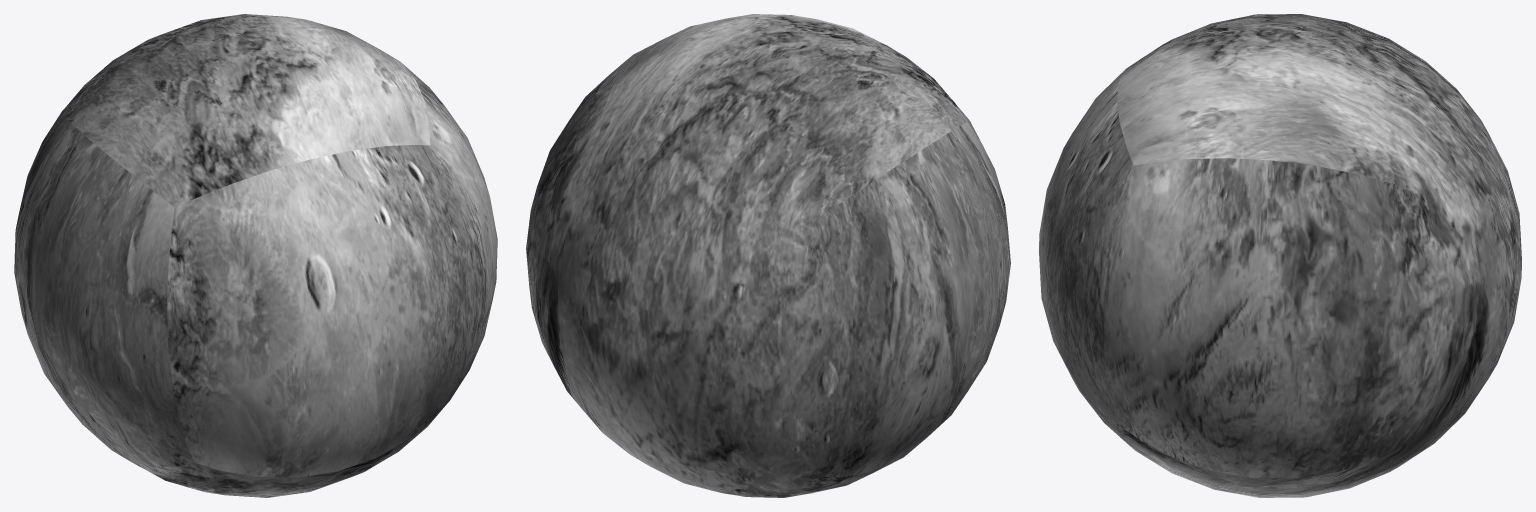
Rendered from moon.gltf.
The picture shows the model from 3 angles, left to right: view 1: azimuth 30°, elevation 25°; view 2: azimuth 150°, elevation 25°; view 3: azimuth 270°, elevation 25°; orthographic projection.
Visible parts, largest first — view 1: Earth.001; view 2: Earth.001; view 3: Earth.001.
Boxes of the visible parts, bbox=[...] form: Earth.001: bbox=[14, 14, 497, 497]; Earth.001: bbox=[526, 14, 1010, 497]; Earth.001: bbox=[1039, 14, 1521, 497].
Bounding box in the file's own units: 38.36 × 38.49 × 38.35.
1 material, 1 textured.
